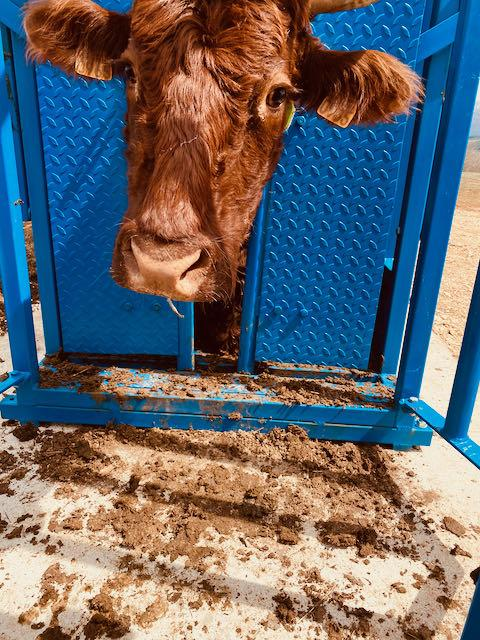muzzles: (101, 213, 239, 312)
